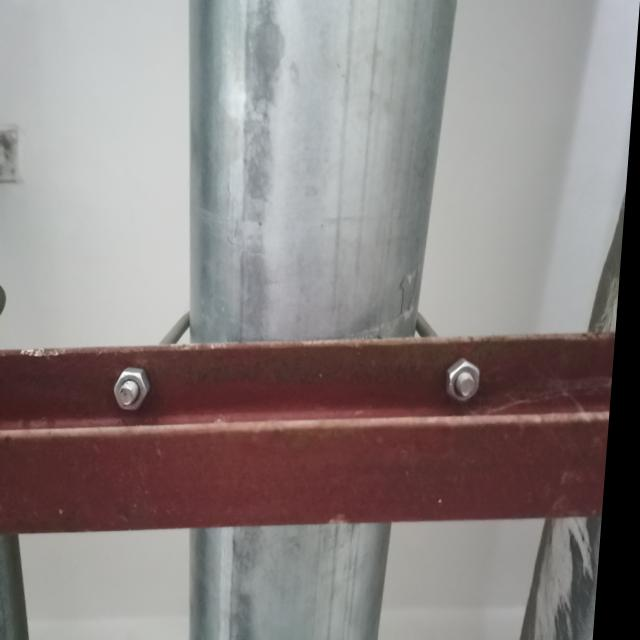Regular bolt: (119, 369, 159, 412), (452, 361, 487, 405)
